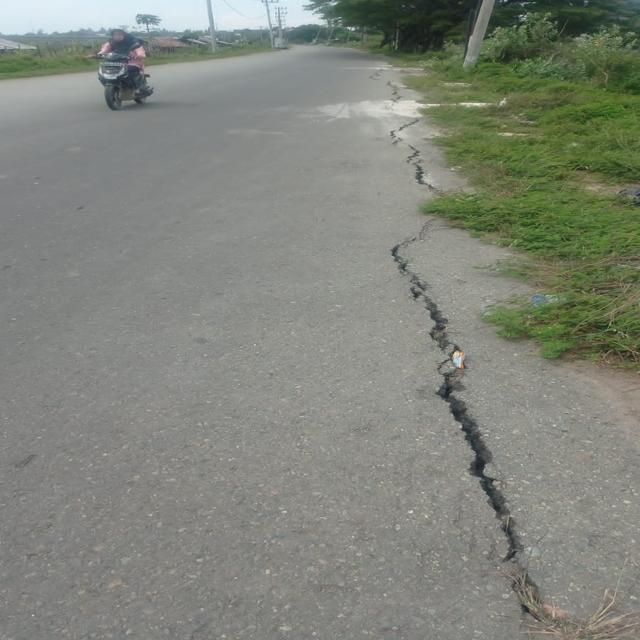Pinggir: (352, 64, 640, 633)
